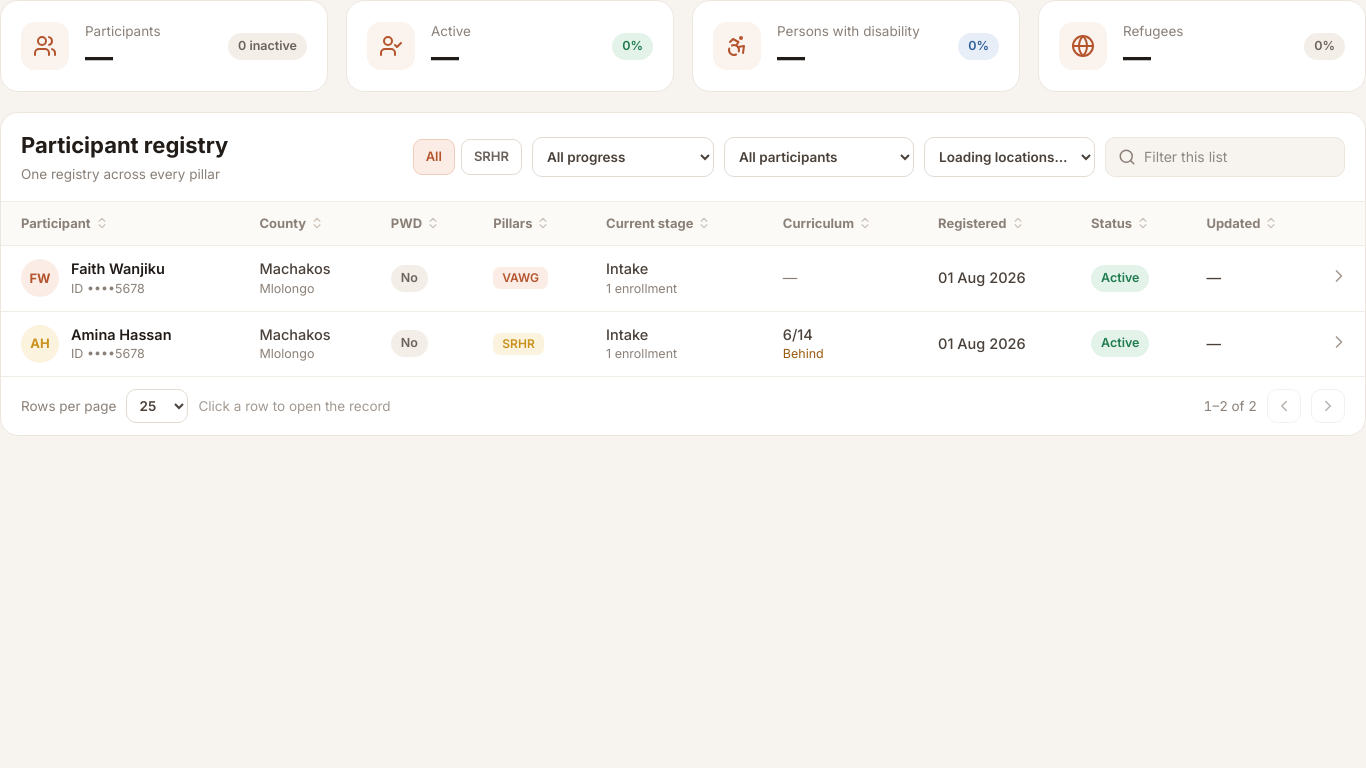
opens the curriculum in the drawer: progress, topics in order, milestones
Click the text "Amina Hassan" at [121, 334], box 71,326 -> 172,342
(page scrolled)
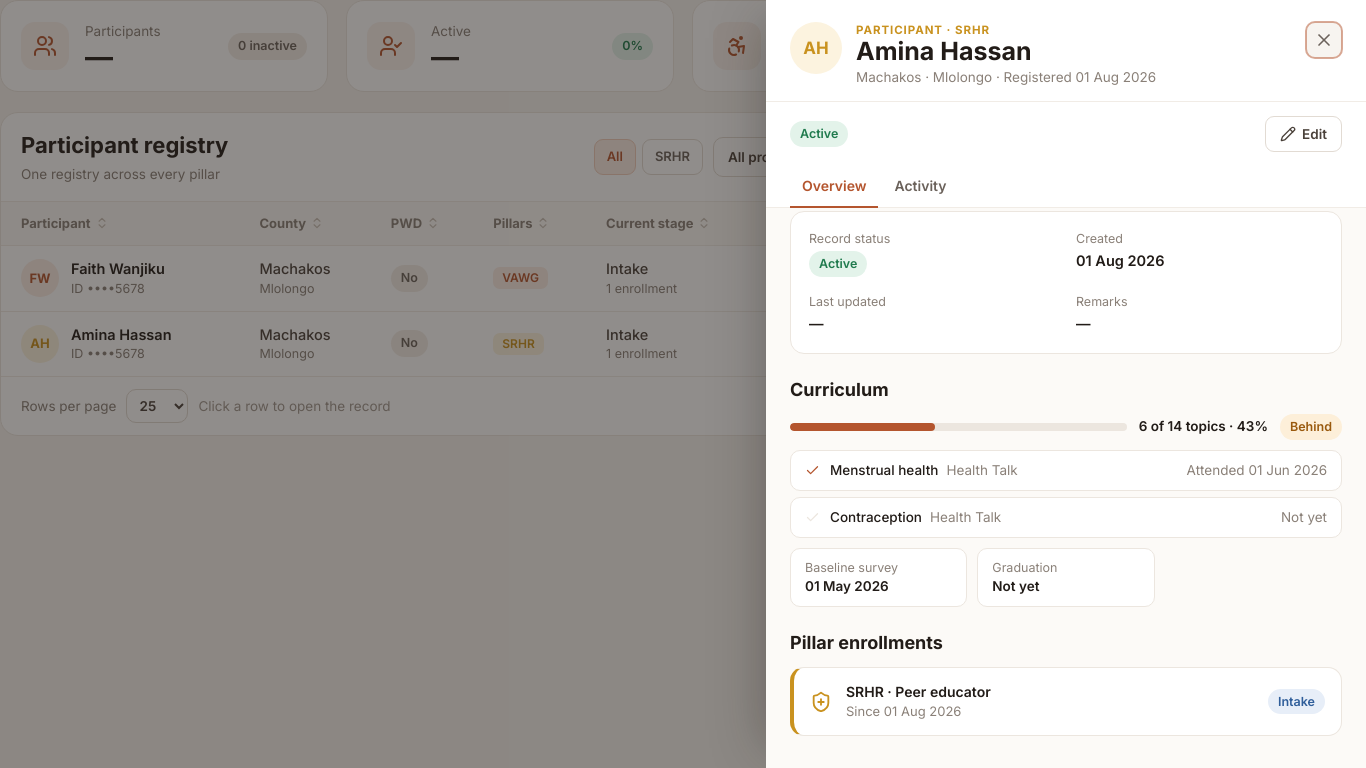
Now the element "Curriculum" shows "6 of 14 topics · 43%", box 1139,418 -> 1268,434
Now the text "Behind" is shown, box 1280,414 -> 1342,440
Now the list named "Curriculum topics" shows "Attended 01 Jun 2026", box 1187,462 -> 1327,478
